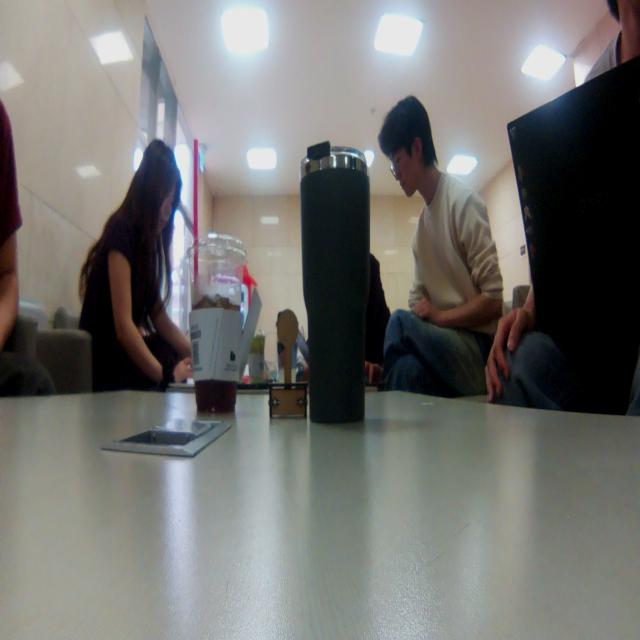target: (267, 308, 308, 421)
